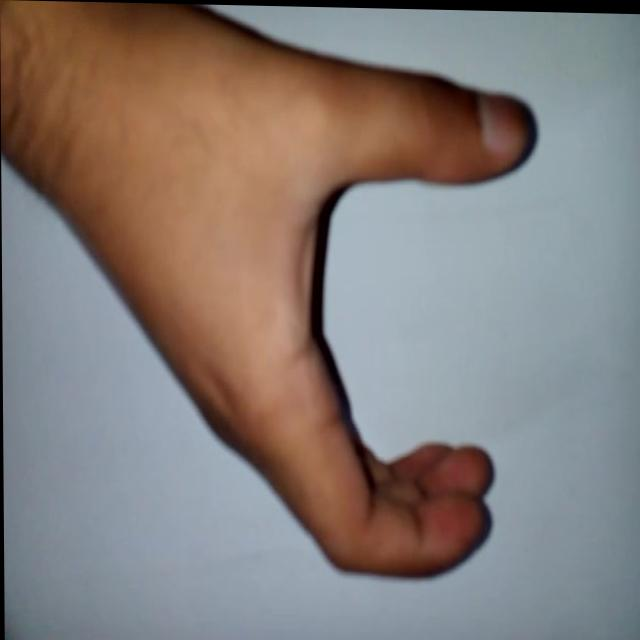C: (109, 47, 572, 582)
